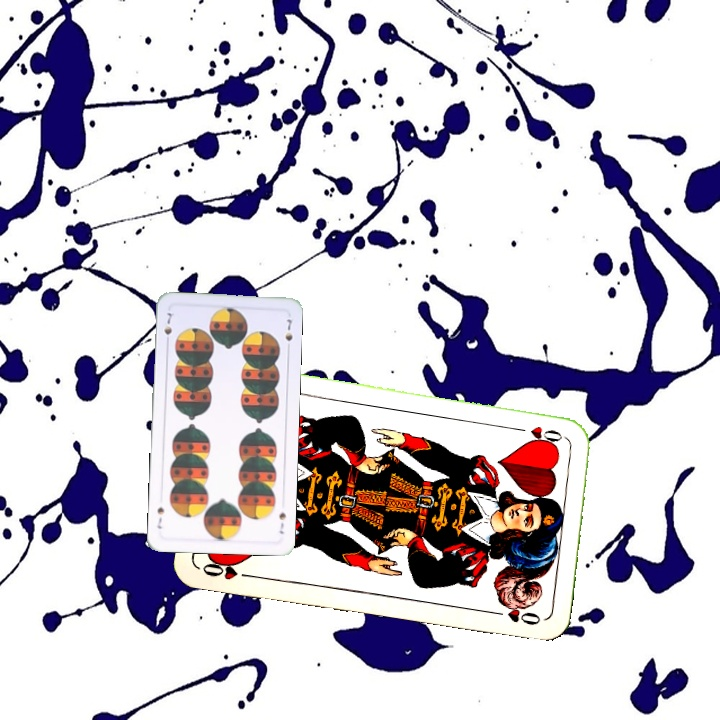HO: (198, 554, 257, 583), (513, 422, 572, 449)
S7: (160, 307, 175, 347), (275, 509, 289, 536)
